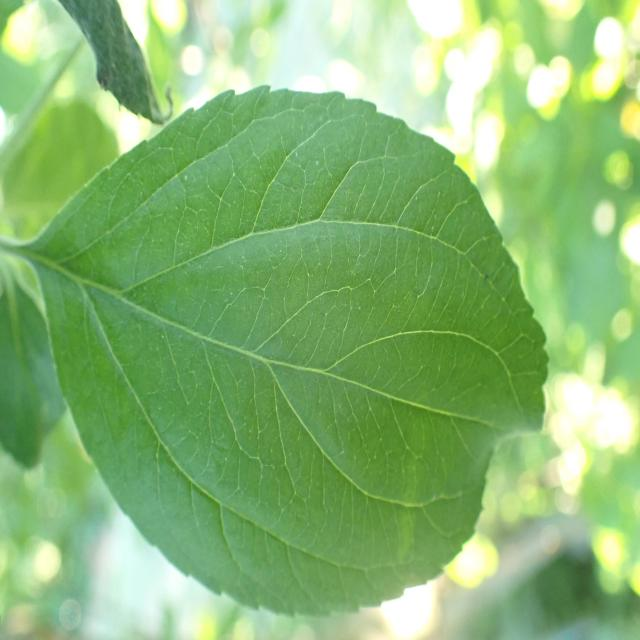healthy: (30, 84, 551, 617)
